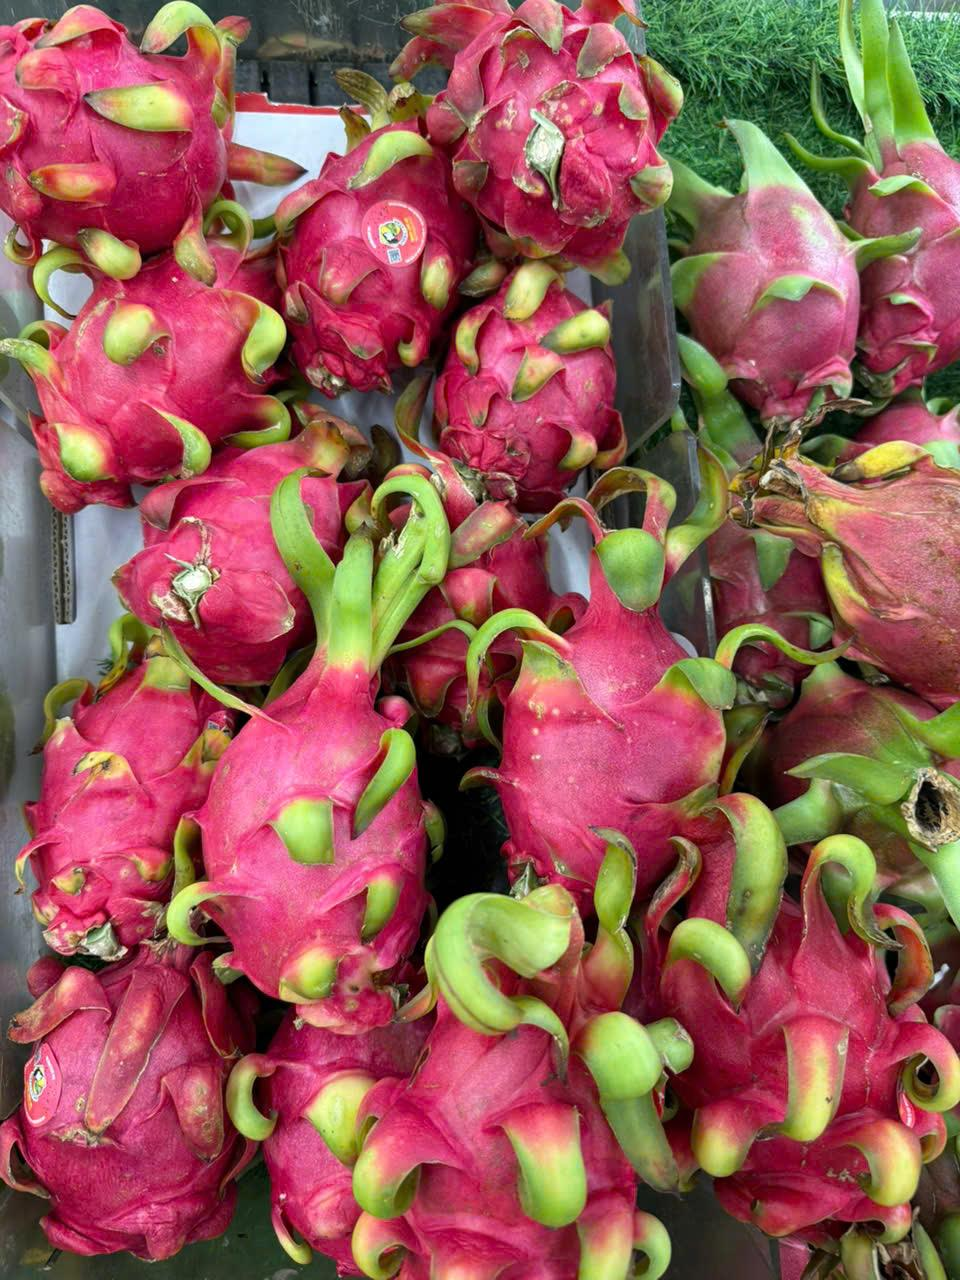dragon fruit: (208, 473, 450, 1024), (673, 830, 950, 1280), (387, 868, 668, 1280), (485, 466, 738, 896), (35, 948, 262, 1280), (400, 0, 684, 258), (20, 618, 224, 972), (2, 236, 290, 462), (2, 3, 232, 270), (272, 63, 450, 388), (162, 425, 376, 673), (430, 256, 616, 478)
